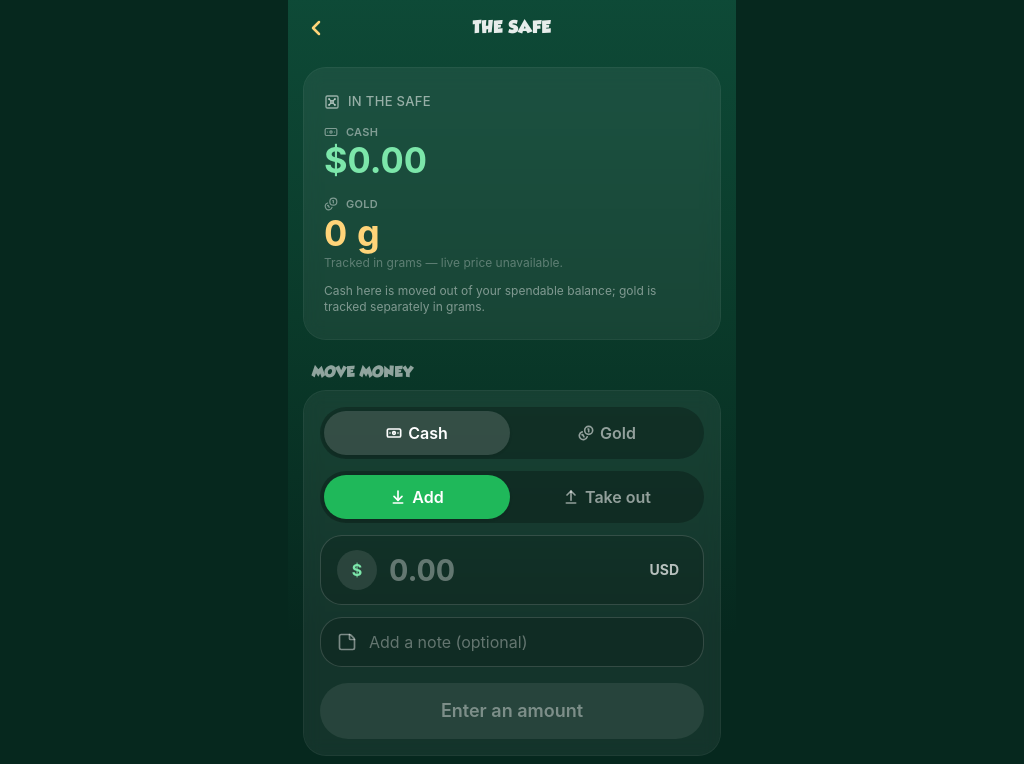
Test case: Safe › surfaces a save error
The width and height of the screenshot is (1024, 764).
In the field named "Amount": (509, 570) [389,552,630,588], type "5"
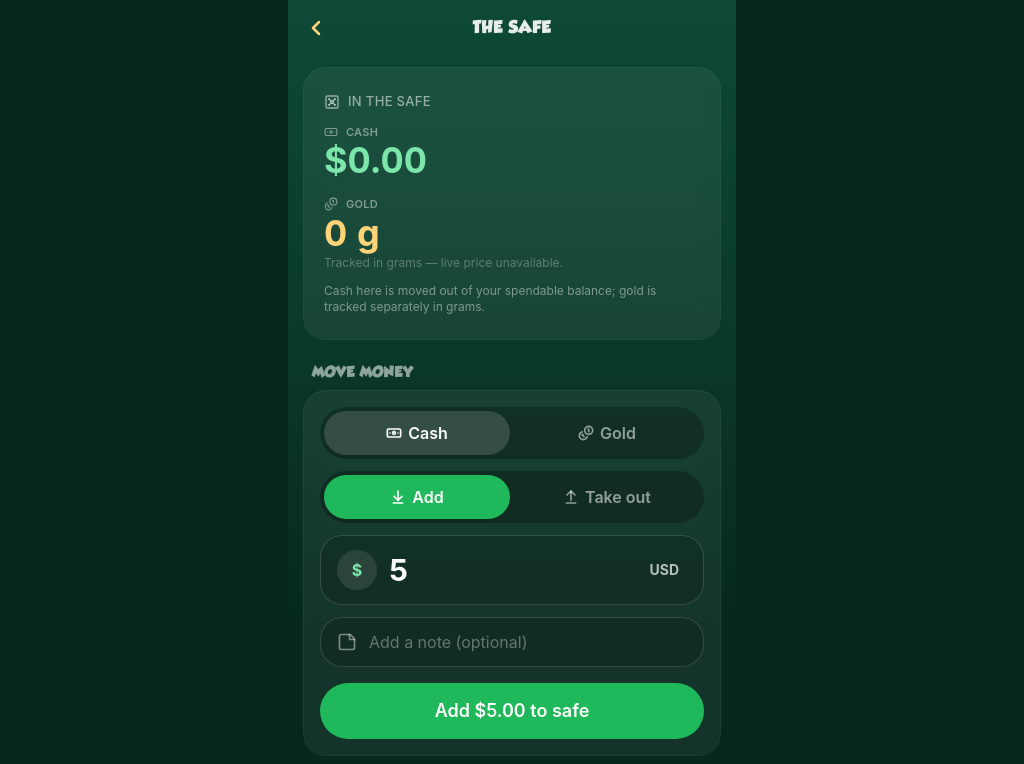
Click the button "Add $5.00 to safe": (512, 710) [320,682,704,738]
(page scrolled)
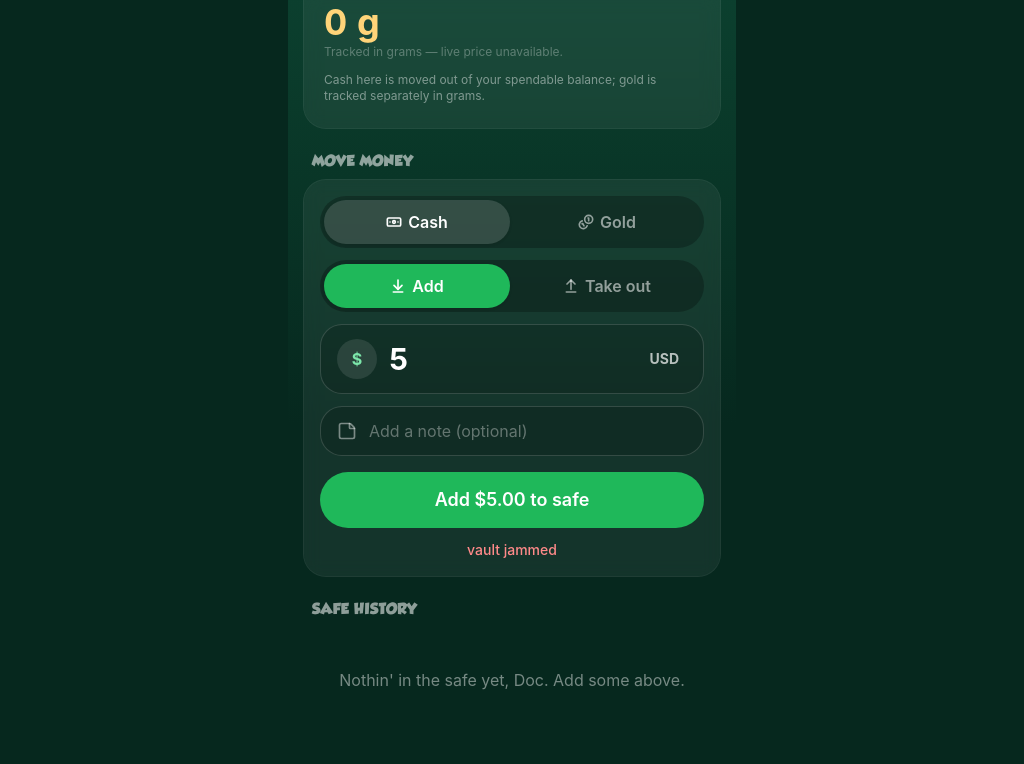
Expected: the text "vault jammed" is shown, [467,540,557,558]
